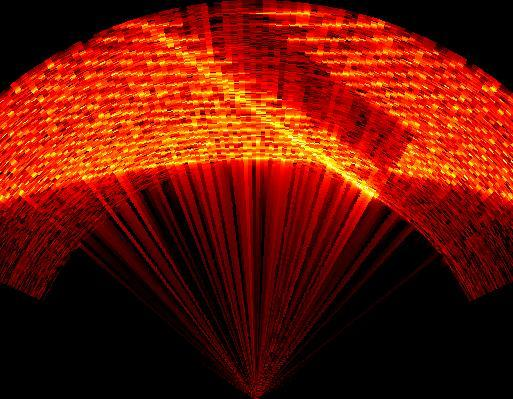pipe: (127, 0, 409, 205)
